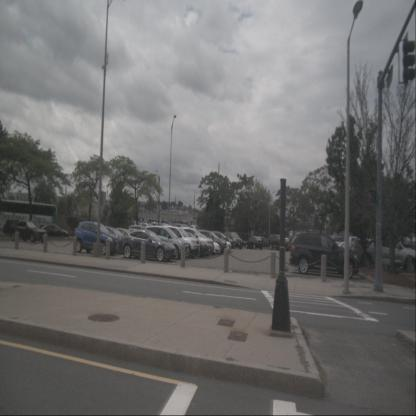vehicle-bus-rigid: (0, 199, 57, 240), (289, 230, 325, 250)
vehicle-car: (290, 231, 359, 278), (119, 229, 177, 263), (143, 224, 190, 260), (74, 221, 119, 256), (158, 225, 201, 259), (93, 226, 129, 256), (177, 228, 214, 256), (175, 230, 209, 258), (9, 220, 47, 243), (187, 233, 221, 256), (196, 231, 226, 254), (200, 233, 230, 254), (208, 231, 234, 252), (2, 218, 30, 237), (40, 224, 68, 240), (269, 235, 290, 251), (224, 231, 242, 249), (245, 235, 264, 250), (128, 225, 144, 237)
vehicle-truck: (361, 234, 415, 276), (331, 235, 375, 266)
